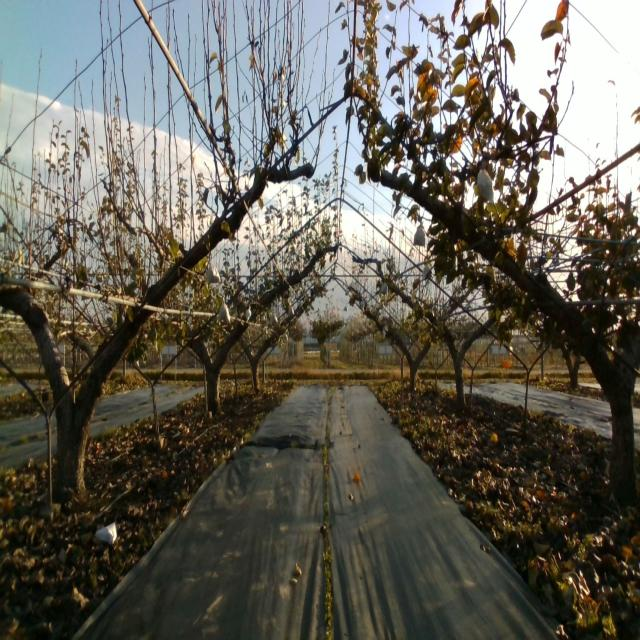pearbags: (477, 167, 495, 203), (206, 259, 221, 283), (218, 297, 231, 322), (413, 224, 426, 246)
